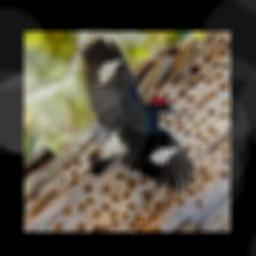Woodpecker: (82, 37, 195, 192)
